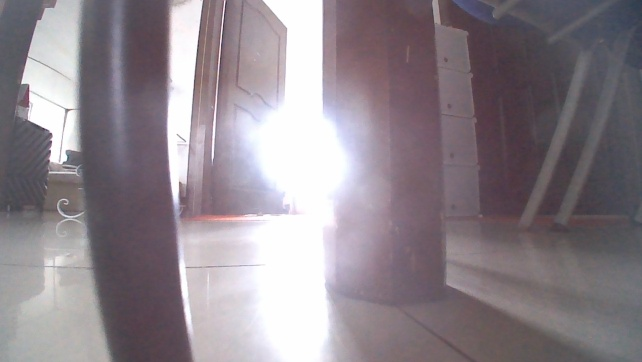door_anno: (183, 0, 287, 218)
